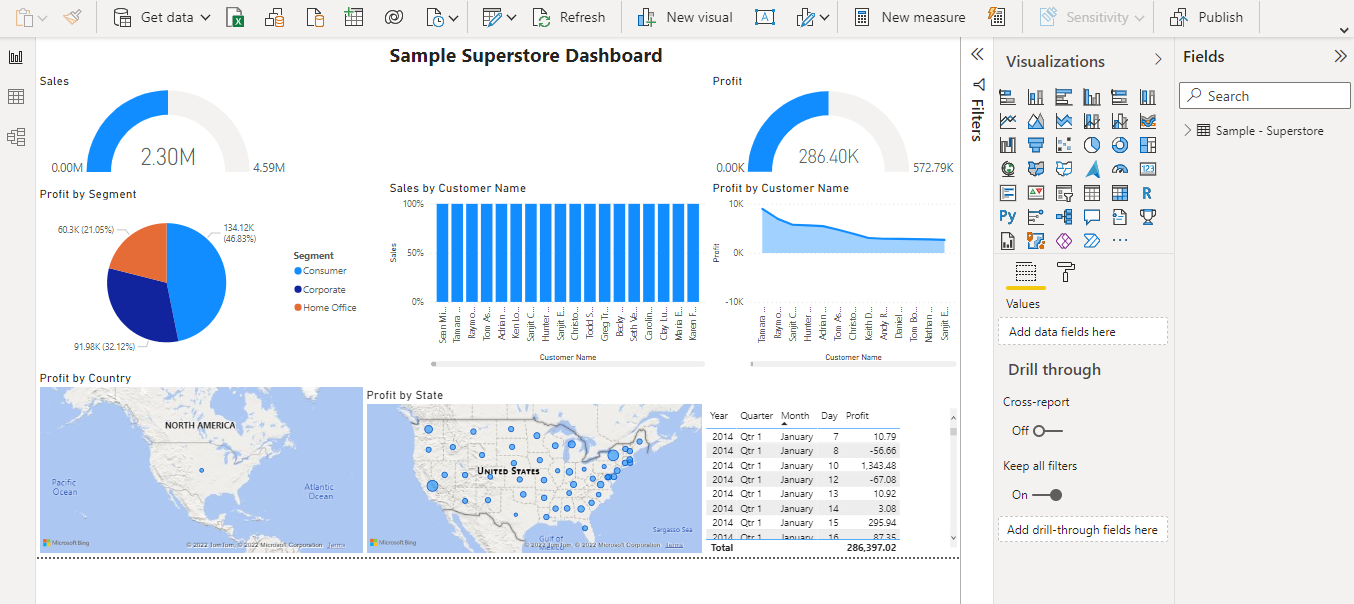

This screenshot's page, from the dashboard's own definition file:
{"tool":"powerbi","page":{"name":"Page 1","canvas":[1280,720],"ordinal":0},"visuals":[{"type":"pieChart","fields":{"Category":["Sample - Superstore.Segment"],"Y":["Sum(Sample - Superstore.Profit)"]},"box":[0,206.6,458.6,248.6],"z":0},{"type":"map","fields":{"Category":["Sample - Superstore.Country"],"Size":["Sum(Sample - Superstore.Profit)"]},"box":[0,461.9,458.6,258.7],"z":1000},{"type":"hundredPercentStackedColumnChart","fields":{"Category":["Sample - Superstore.Customer Name"],"Y":["Sum(Sample - Superstore.Sales)"]},"box":[485.5,198.2,446.8,263.7],"z":2000},{"type":"stackedAreaChart","fields":{"Category":["Sample - Superstore.Customer Name"],"Y":["Sum(Sample - Superstore.Profit)"]},"box":[932.3,198.2,347.7,263.7],"z":3000},{"type":"map","fields":{"Category":["Sample - Superstore.State"],"Size":["Sum(Sample - Superstore.Profit)"]},"box":[453.5,485.5,473.7,235.2],"z":4000},{"type":"tableEx","fields":{"Values":["Sample - Superstore.Ship Date.Variation.Date Hierarchy.Year","Sample - Superstore.Ship Date.Variation.Date Hierarchy.Quarter","Sample - Superstore.Ship Date.Variation.Date Hierarchy.Month","Sample - Superstore.Ship Date.Variation.Date Hierarchy.Day","Sum(Sample - Superstore.Profit)"]},"box":[922,509.3,357.8,210.7],"z":5000},{"type":"gauge","fields":{"Y":["Sum(Sample - Superstore.Sales)"]},"box":[0,50.5,366.5,147.2],"z":6000},{"type":"textbox","box":[484.8,0,437.2,80.8],"z":7000},{"type":"gauge","fields":{"Y":["Sum(Sample - Superstore.Profit)"]},"box":[932.3,50.4,347.7,147.8],"z":8000}]}

Visuals, with their boxes on the page's 1280x720 design canvas (x1, y1, x2, y2). These are canvas units, not pixel positions in the 1354x604 screenshot, which may show the page scaled, cropped or inside an application window:
pieChart - Sample - Superstore.Segment x Sum(Sample - Superstore.Profit): bbox=[0, 207, 459, 455]
map - Sample - Superstore.Country x Sum(Sample - Superstore.Profit): bbox=[0, 462, 459, 721]
hundredPercentStackedColumnChart - Sample - Superstore.Customer Name x Sum(Sample - Superstore.Sales): bbox=[486, 198, 932, 462]
stackedAreaChart - Sample - Superstore.Customer Name x Sum(Sample - Superstore.Profit): bbox=[932, 198, 1280, 462]
map - Sample - Superstore.State x Sum(Sample - Superstore.Profit): bbox=[454, 486, 927, 721]
tableEx - Sample - Superstore.Ship Date.Variation.Date Hierarchy.Year x Sample - Superstore.Ship Date.Variation.Date Hierarchy.Quarter: bbox=[922, 509, 1280, 720]
gauge - Sum(Sample - Superstore.Sales): bbox=[0, 50, 366, 198]
textbox: bbox=[485, 0, 922, 81]
gauge - Sum(Sample - Superstore.Profit): bbox=[932, 50, 1280, 198]
